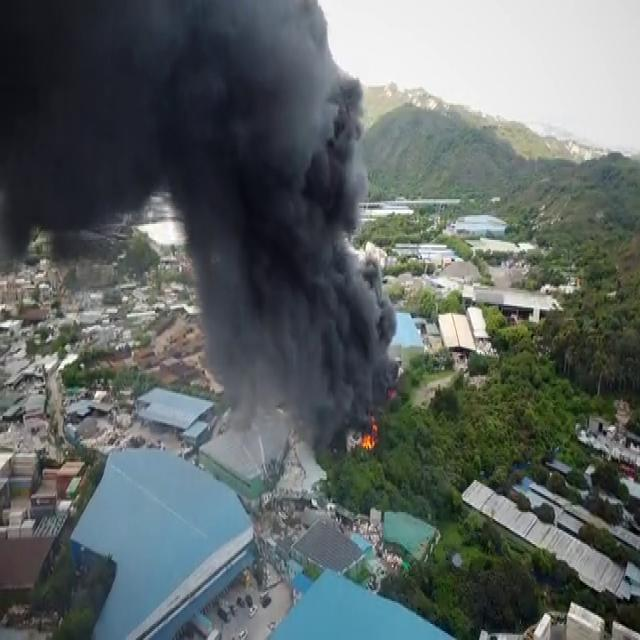smoke: (175, 3, 367, 249), (1, 3, 173, 215), (196, 248, 397, 408), (310, 389, 358, 434)
